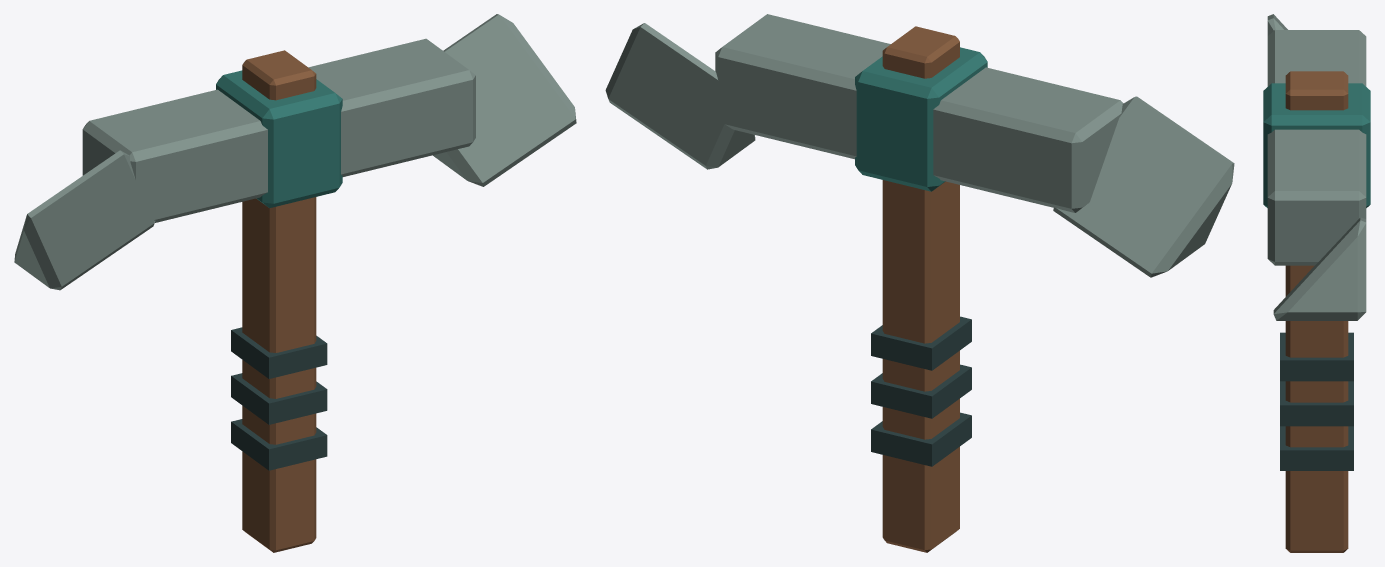
File: yard_pickaxe.fbx
The picture shows the model from 3 angles, left to right: view 1: azimuth 30°, elevation 25°; view 2: azimuth 150°, elevation 25°; view 3: azimuth 270°, elevation 25°; orthographic projection. The views are drawn at different scales.
Visible parts, largest first — view 1: Blade, Handle, RightTip, LeftTip, Collar, Grip.001, Grip, Grip.002; view 2: Blade, Handle, LeftTip, RightTip, Collar, Grip.002, Grip, Grip.001; view 3: Blade, Handle, RightTip, Collar, Grip.002, Grip.001, Grip, LeftTip.
Part boxes in pixels (bbox=[...]): Blade: bbox=[82, 38, 475, 223]; Handle: bbox=[242, 50, 316, 552]; RightTip: bbox=[433, 14, 576, 186]; LeftTip: bbox=[14, 150, 155, 290]; Collar: bbox=[216, 70, 342, 208]; Grip.001: bbox=[231, 373, 327, 424]; Grip: bbox=[231, 419, 327, 470]; Grip.002: bbox=[231, 327, 327, 378]; Blade: bbox=[715, 14, 1123, 212]; Handle: bbox=[882, 26, 959, 552]; LeftTip: bbox=[1053, 96, 1234, 277]; RightTip: bbox=[605, 23, 755, 169]; Collar: bbox=[855, 47, 987, 191]; Grip.002: bbox=[871, 316, 971, 370]; Grip: bbox=[871, 412, 971, 466]; Grip.001: bbox=[871, 364, 971, 418]; Blade: bbox=[1267, 30, 1366, 265]; Handle: bbox=[1285, 71, 1348, 552]; RightTip: bbox=[1273, 217, 1366, 320]; Collar: bbox=[1263, 83, 1370, 207]; Grip.002: bbox=[1280, 332, 1353, 381]; Grip.001: bbox=[1280, 381, 1353, 426]; Grip: bbox=[1280, 426, 1353, 470]; LeftTip: bbox=[1267, 14, 1287, 35].
Size of the model in its own units: 382 by 310 by 65.
